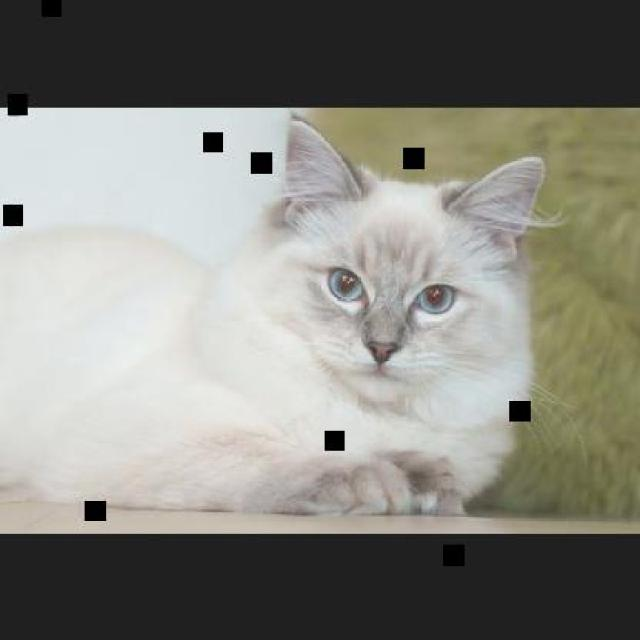unauthorized: (0, 112, 568, 517)
